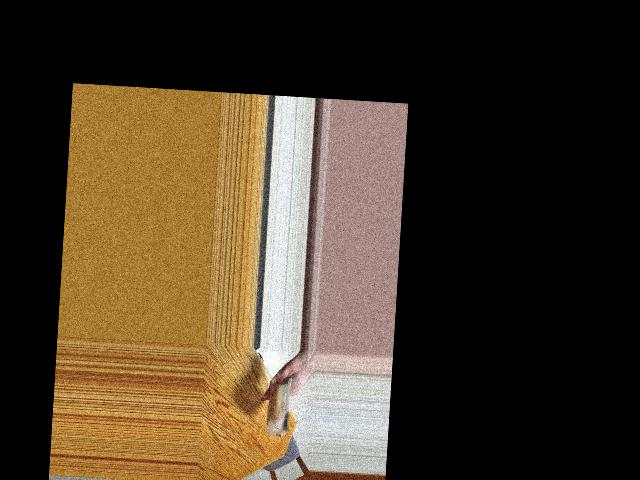cheese: (264, 380, 302, 433)
